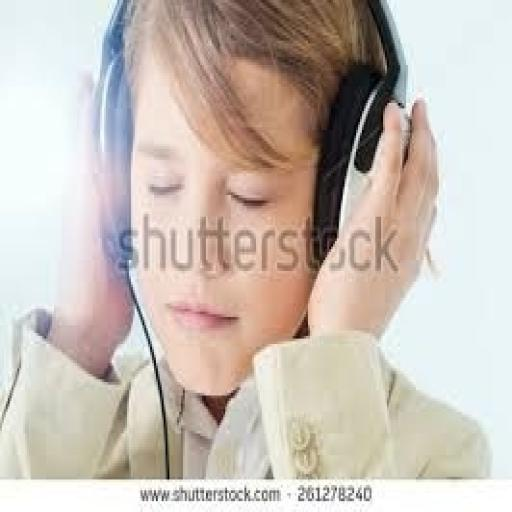listening_to_music: (0, 0, 493, 479)
